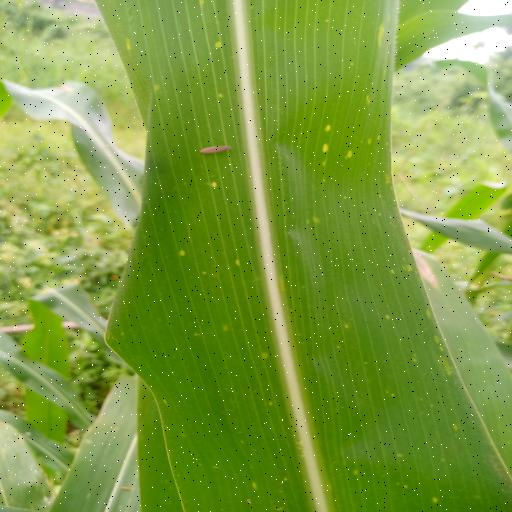Corn_Chlorotic_Leaf_Spot: (88, 0, 512, 512)
